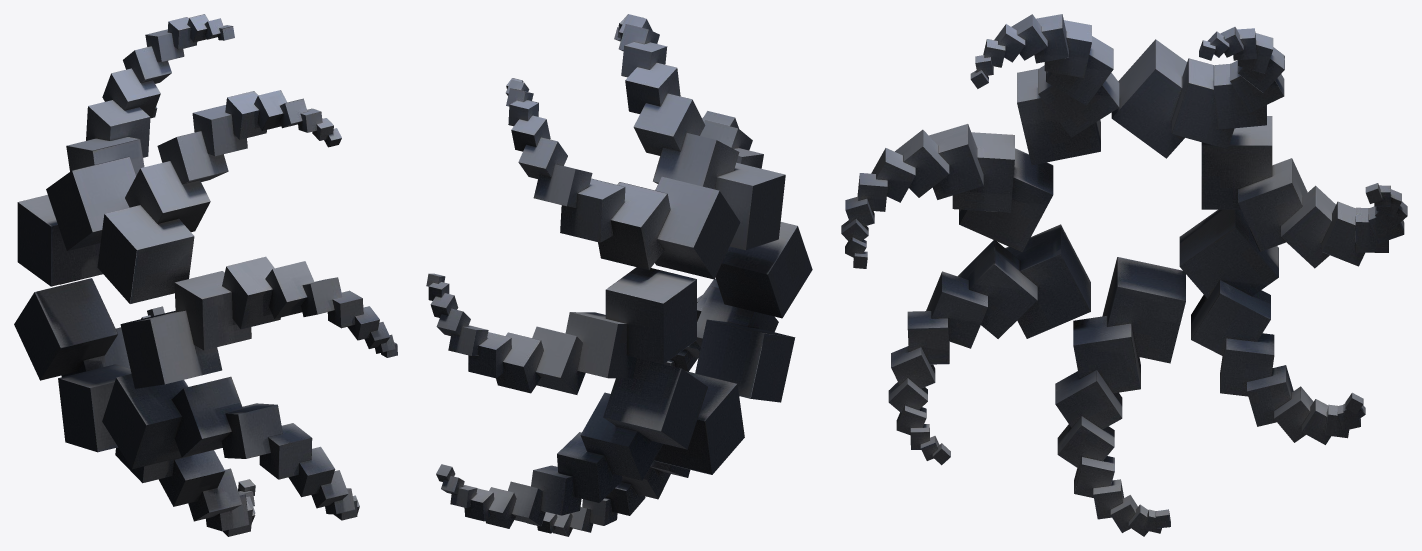
The model's file is fractal_2.glb.
3 views of the same model, side by side, from view 1: azimuth 30°, elevation 25°; view 2: azimuth 150°, elevation 25°; view 3: azimuth 270°, elevation 25° (orthographic). The views are drawn at different scales.
Size of the model in its own units: 0.6646 by 1.63 by 1.66.
Materials: 1 (1 with a texture image).
